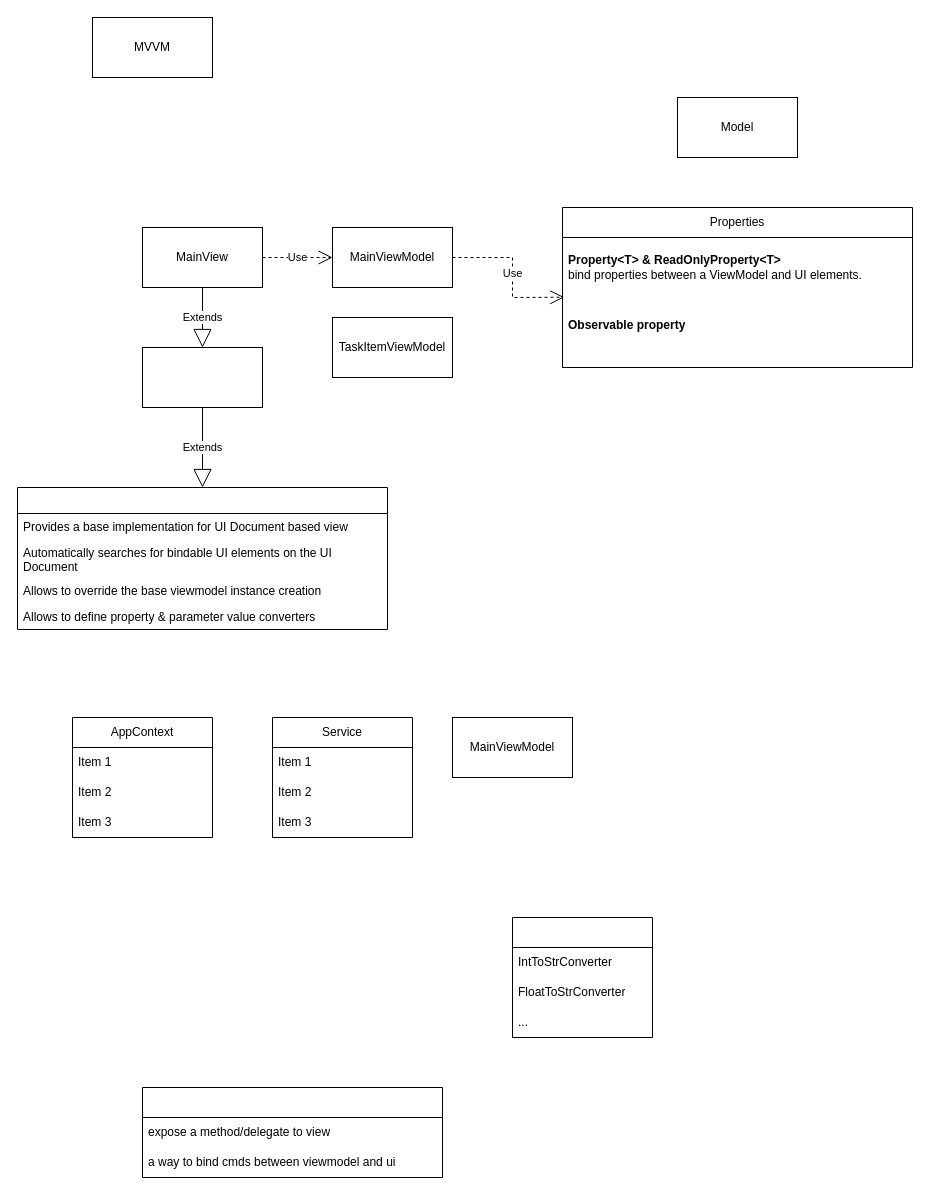
Some shapes in this 930 by 1195 pixel diagram are drawn without their labels. Each missing label, with the box of its shape:
BaseView: (142, 346, 262, 408)
Command: (142, 1086, 442, 1178)
DocumentView: (16, 486, 388, 630)
PropertyValueConverter: (512, 916, 652, 1038)
